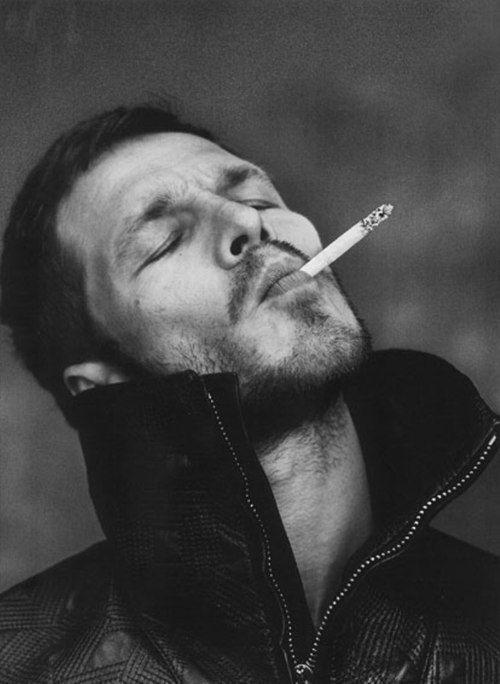cigarette: (300, 204, 394, 277)
